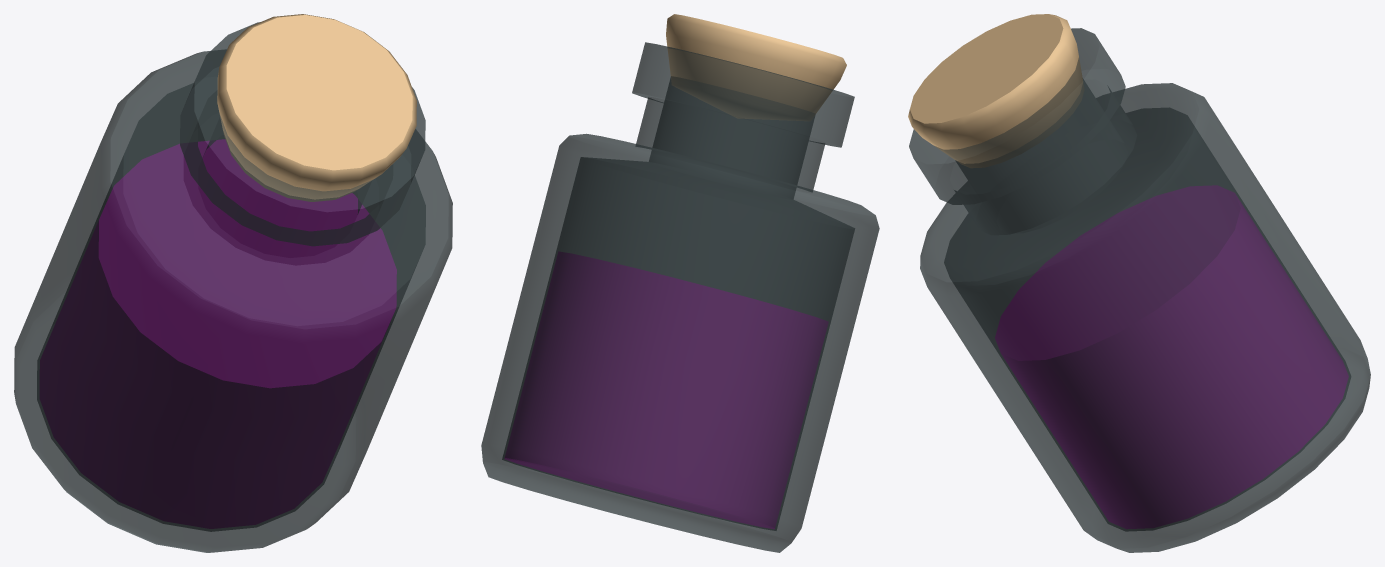
The model's file is JarJam.fbx.
The picture shows the model from 3 angles, left to right: view 1: azimuth 30°, elevation 25°; view 2: azimuth 150°, elevation 25°; view 3: azimuth 270°, elevation 25°; orthographic projection. The views are drawn at different scales.
Parts seen in each view (by area): view 1: JAM1_pCylinder2; view 2: JAM1_pCylinder2; view 3: JAM1_pCylinder2.
Boxes of the visible parts, box(x1,y1,x2,y2) form: JAM1_pCylinder2: box(14, 14, 452, 552); JAM1_pCylinder2: box(481, 14, 879, 552); JAM1_pCylinder2: box(908, 14, 1370, 552).
Size of the model in its own units: 2 by 3.27 by 2.75.
